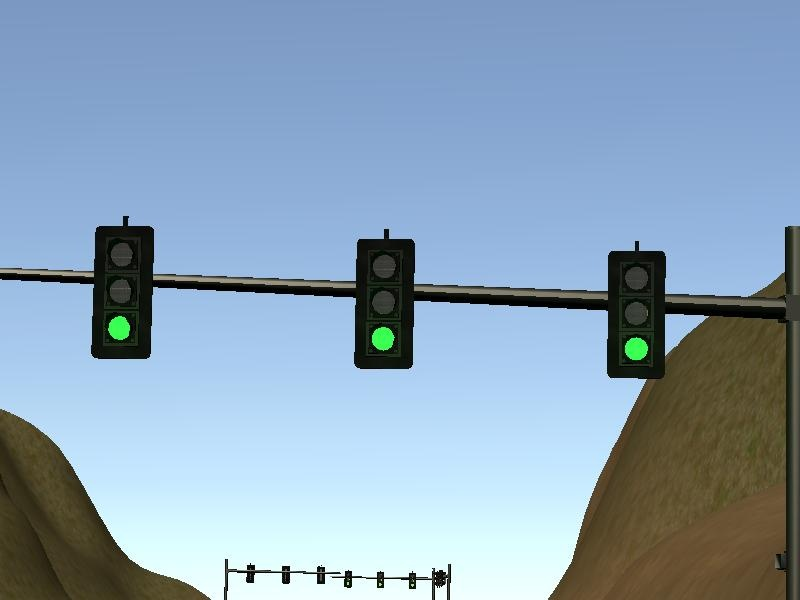GREEN: (90, 227, 153, 357), (353, 238, 413, 369), (605, 250, 665, 381)
